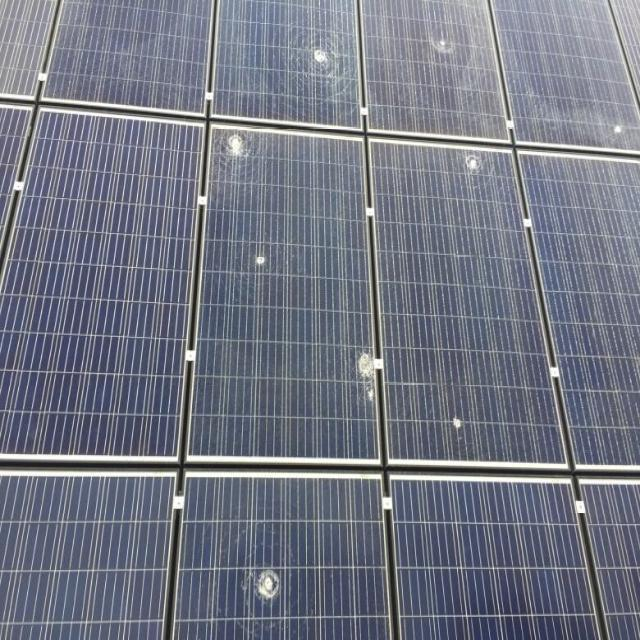Physical-damage: (199, 15, 367, 191), (407, 0, 522, 214), (315, 306, 439, 460), (209, 494, 339, 640)
